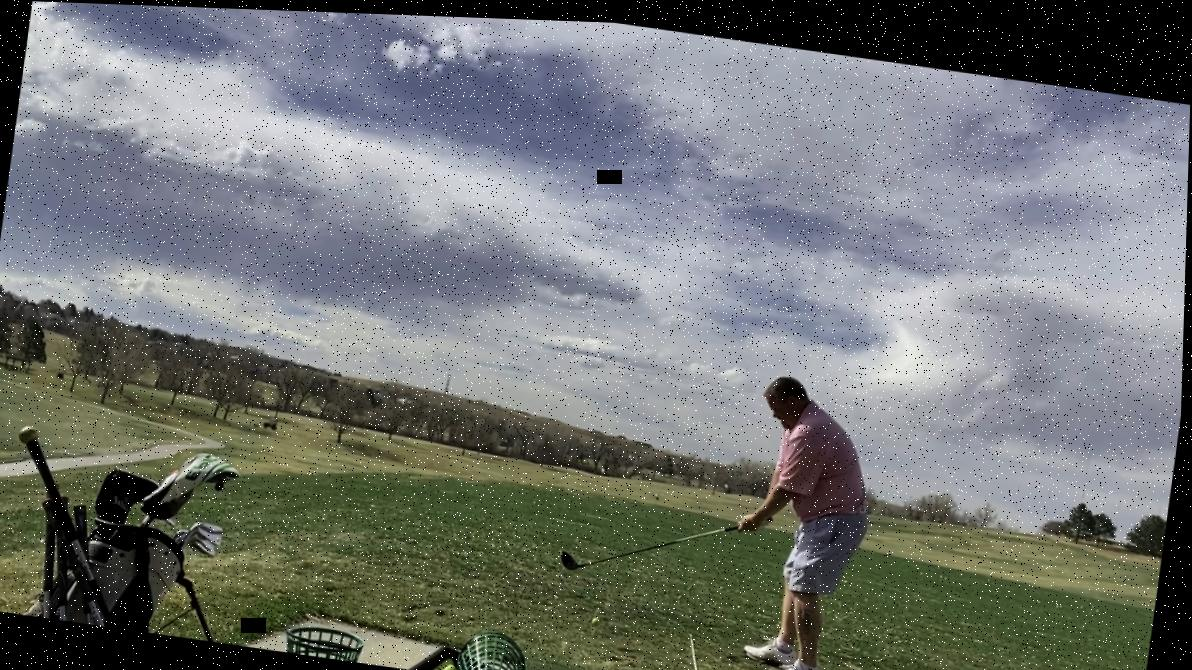ClubHead: (554, 540, 598, 574)
GolfBall: (592, 610, 605, 624)
